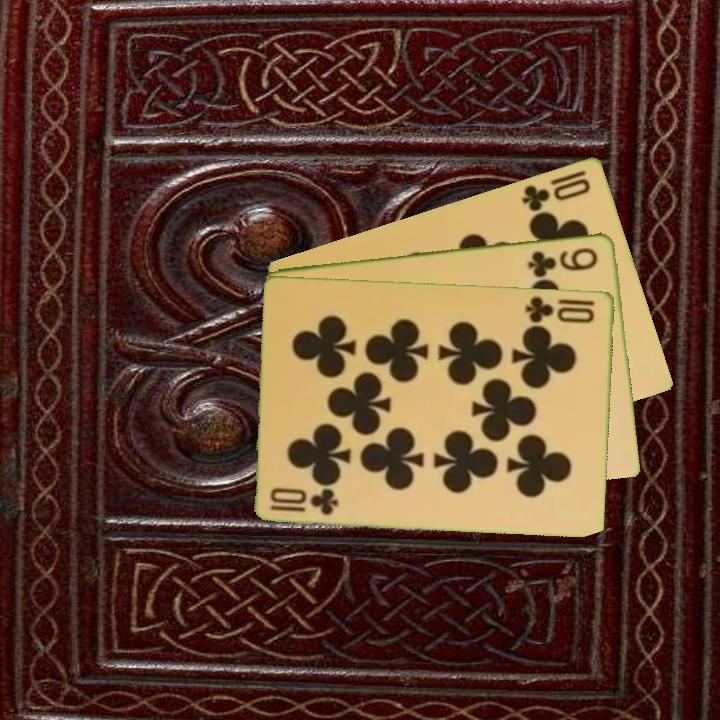10c: (518, 166, 594, 214), (522, 292, 598, 326), (267, 484, 342, 518)
9c: (524, 243, 601, 277)
